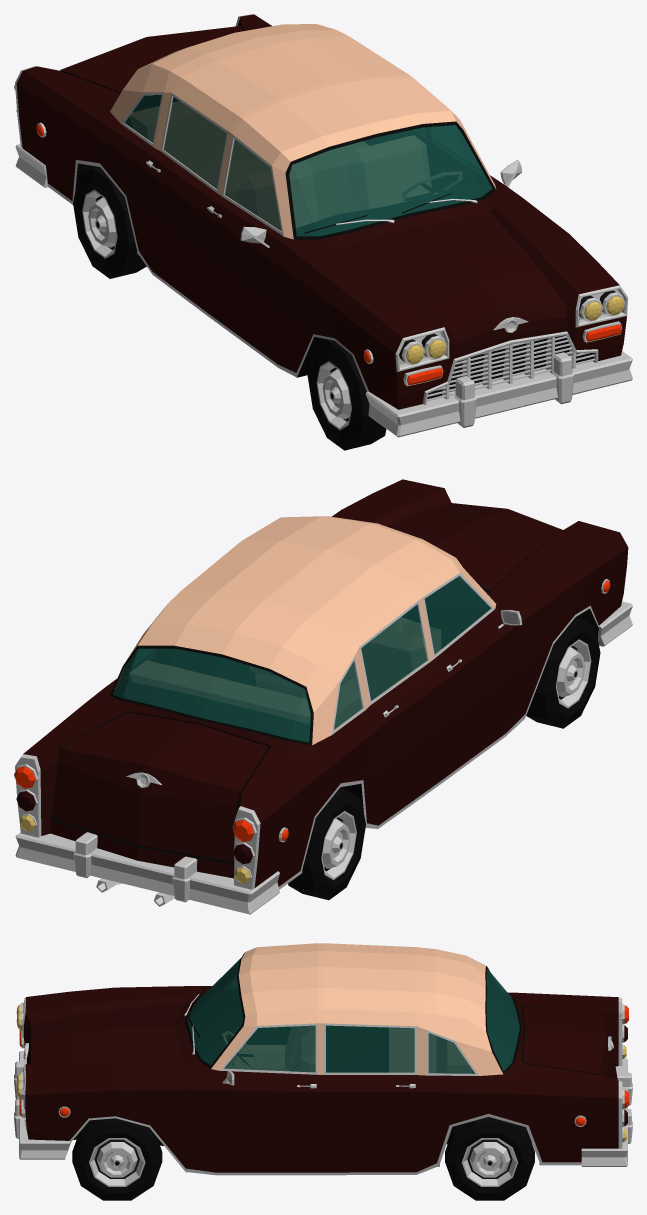
The model's file is Sedan_05.FBX.
The picture shows the model from 3 angles, top to bottom: view 1: azimuth 30°, elevation 25°; view 2: azimuth 150°, elevation 25°; view 3: azimuth 270°, elevation 25°; orthographic projection. The views are drawn at different scales.
Parts seen in each view (by area): view 1: Sedan_05, interior, bumper_f, wheel_f_r, wheel_b_r, grill, lights, headLights, bumper_b; view 2: Sedan_05, interior, bumper_b, wheel_b_r, wheel_f_r, bumper_f, lights, tailLights; view 3: Sedan_05, interior, wheel_b_l, wheel_f_l, bumper_f, bumper_b, lights.
Part boxes in pixels (x1,y1,x2,y2): Sedan_05: [15, 14, 628, 409]; interior: [125, 95, 492, 235]; bumper_f: [365, 351, 632, 437]; wheel_f_r: [307, 339, 386, 450]; wheel_b_r: [73, 167, 146, 278]; grill: [427, 336, 595, 401]; lights: [14, 86, 624, 386]; headLights: [406, 296, 624, 363]; bumper_b: [15, 144, 47, 187]; Sedan_05: [15, 479, 628, 889]; interior: [113, 576, 490, 742]; bumper_b: [15, 832, 279, 914]; wheel_b_r: [288, 788, 365, 900]; wheel_f_r: [526, 617, 600, 728]; bumper_f: [598, 601, 632, 646]; lights: [14, 579, 609, 884]; tailLights: [16, 791, 252, 864]; Sedan_05: [22, 943, 622, 1175]; interior: [187, 959, 519, 1073]; wheel_b_l: [445, 1117, 534, 1200]; wheel_f_l: [72, 1118, 162, 1200]; bumper_f: [14, 1051, 70, 1159]; bumper_b: [581, 1058, 632, 1166]; lights: [20, 1002, 624, 1142].
Size of the model in its own units: 24.64 by 19.82 by 59.09.
